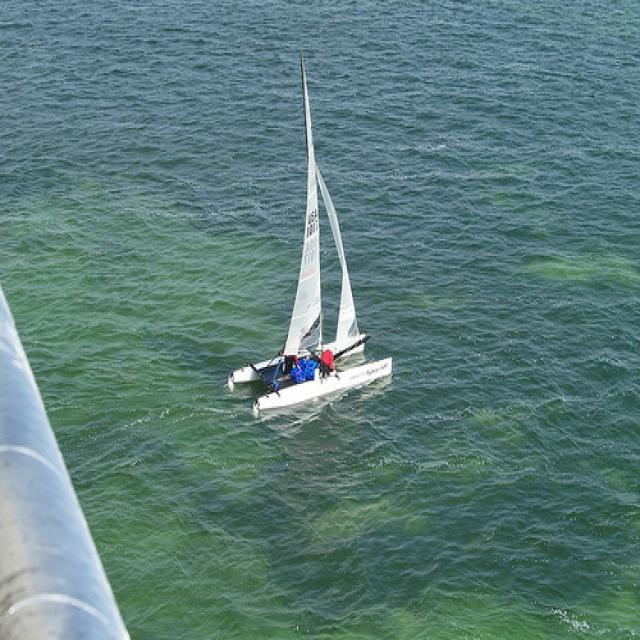Ship: (227, 53, 400, 425)
